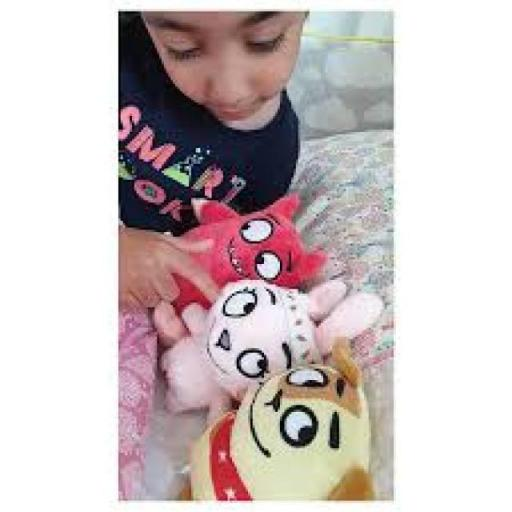baby: (119, 12, 306, 308)
